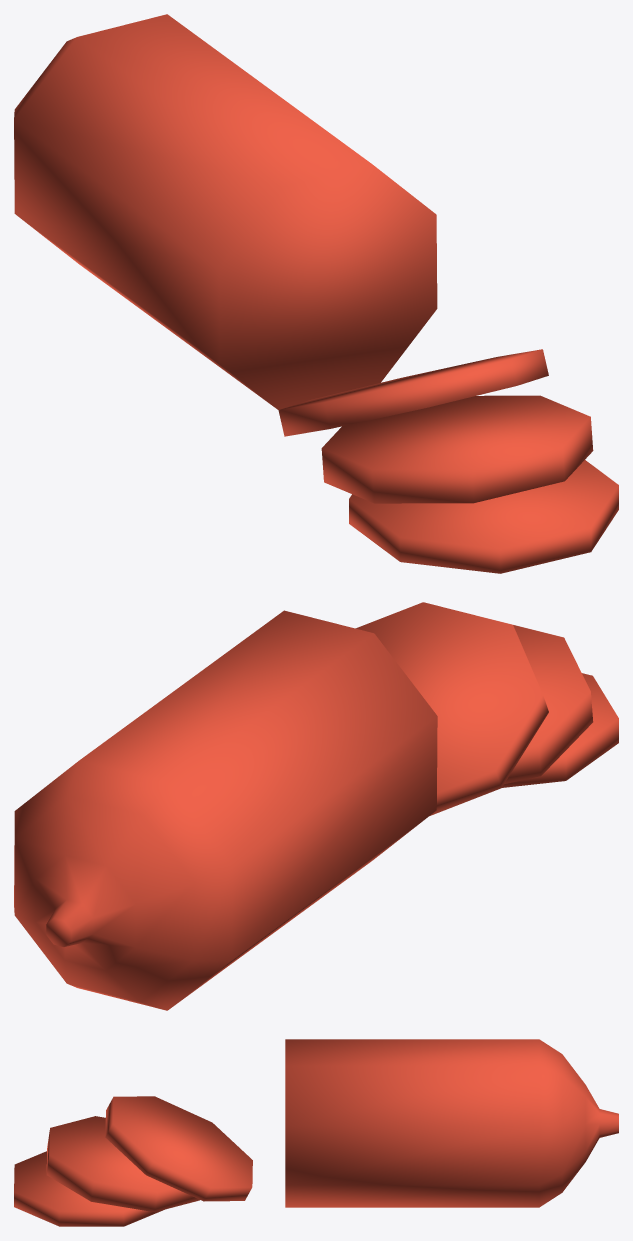
The model's file is sausage-sliced.glb.
The picture shows the model from 3 angles, top to bottom: view 1: azimuth 30°, elevation 25°; view 2: azimuth 150°, elevation 25°; view 3: azimuth 270°, elevation 25°; orthographic projection. The views are drawn at different scales.
Parts seen in each view (by area): view 1: SausageSliced.001; view 2: SausageSliced.001; view 3: SausageSliced.001.
Boxes of the visible parts, bbox=[...] form: SausageSliced.001: bbox=[14, 14, 618, 573]; SausageSliced.001: bbox=[14, 602, 618, 1010]; SausageSliced.001: bbox=[14, 1039, 618, 1226].
Bounding box in the file's own units: 0.0927 × 0.0927 × 0.3589.
1 material, 1 textured.
